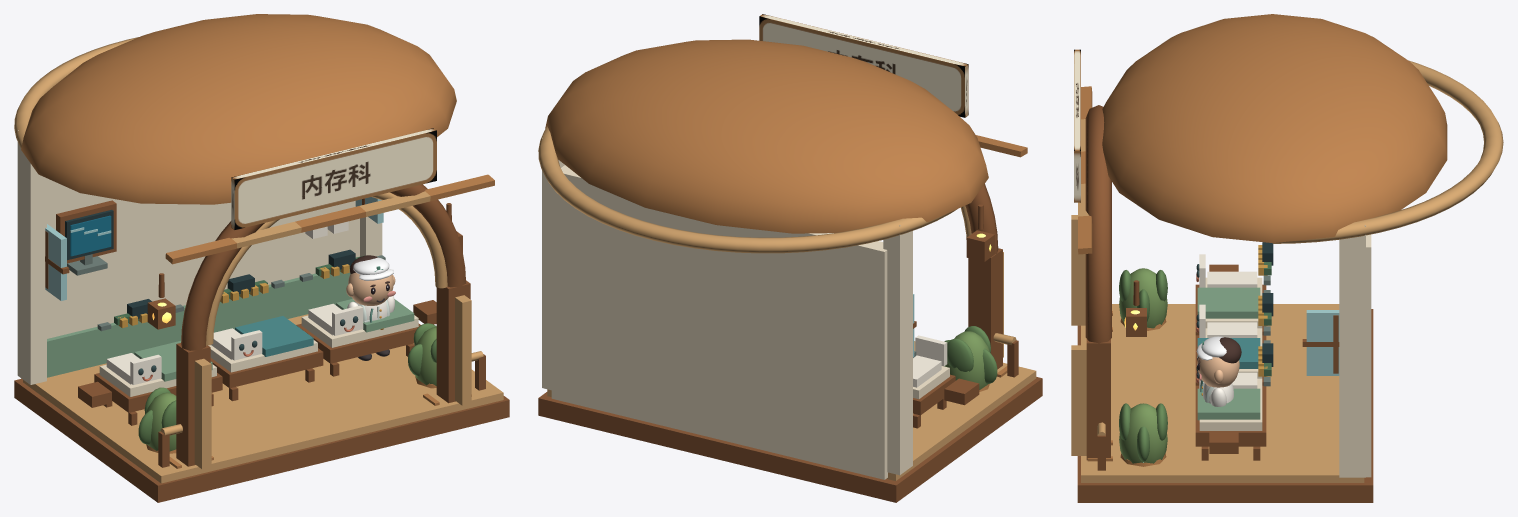
The model's file is memory.glb.
The picture shows the model from 3 angles, left to right: view 1: azimuth 30°, elevation 25°; view 2: azimuth 150°, elevation 25°; view 3: azimuth 270°, elevation 25°; orthographic projection. The views are drawn at different scales.
Visible parts, largest first — view 1: static batch geometry (×11), static batch platform, sign-内存科, memory clinic, large-head; view 2: static batch geometry (×6), static batch platform, sign-内存科; view 3: static batch geometry (×10), static batch platform, sign-内存科, large-head, memory clinic.
Part boxes in pixels (x1,y1,x2,y2): static batch geometry (×11): (14, 14, 503, 483); static batch platform: (14, 184, 509, 502); sign-内存科: (231, 128, 436, 229); memory clinic: (70, 215, 313, 356); large-head: (348, 272, 393, 305); static batch geometry (×6): (538, 39, 1036, 480); static batch platform: (538, 184, 1042, 502); sign-内存科: (759, 14, 968, 117); static batch geometry (×10): (1071, 14, 1503, 482); static batch platform: (1077, 105, 1373, 502); sign-内存科: (1074, 49, 1080, 202); large-head: (1197, 357, 1239, 387); memory clinic: (1197, 338, 1260, 368).
Size of the model in its own units: 6.84 by 5.62 by 6.21.
33 materials, 1 textured.
